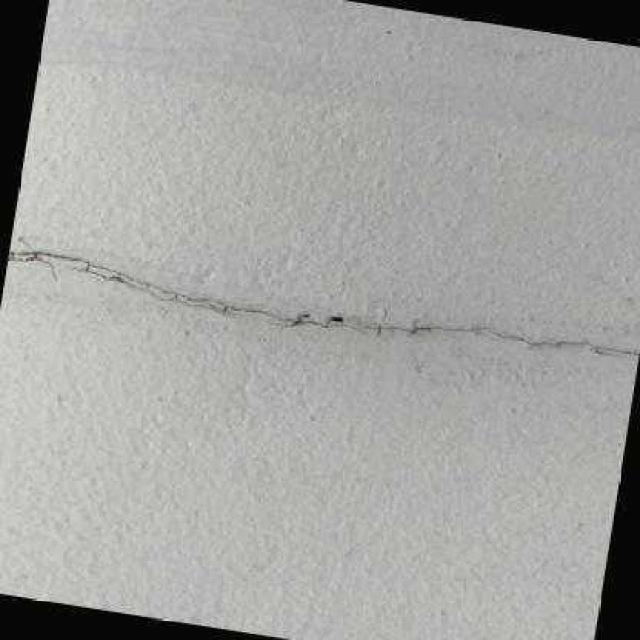D00: (5, 250, 639, 358)
